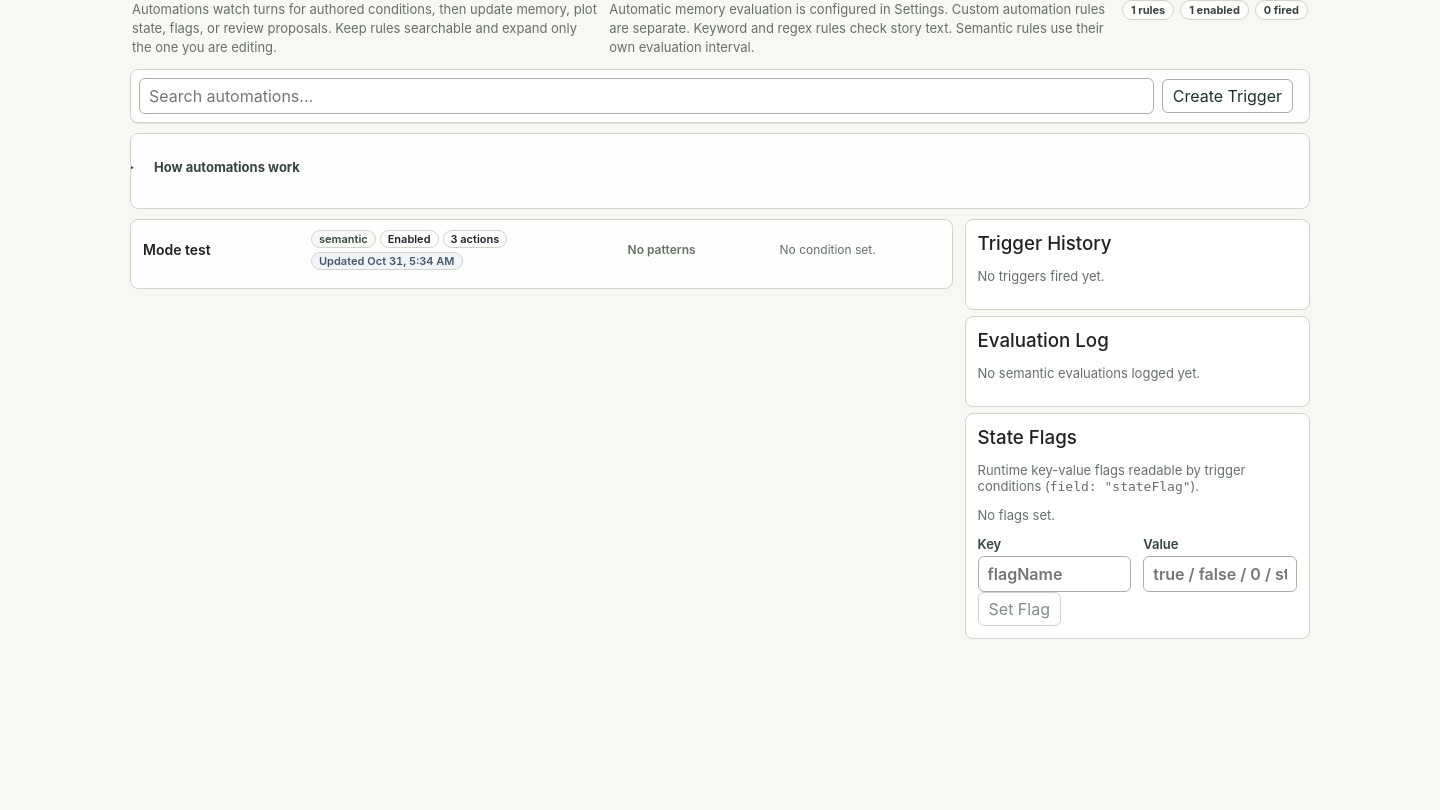
Scenario: uses the saved rule mode to show warnings: semantic
The image size is (1440, 810).
Step 1. Click the heading that starts with "Mode test" → [177, 250], box [131, 220, 952, 280]
(page scrolled)
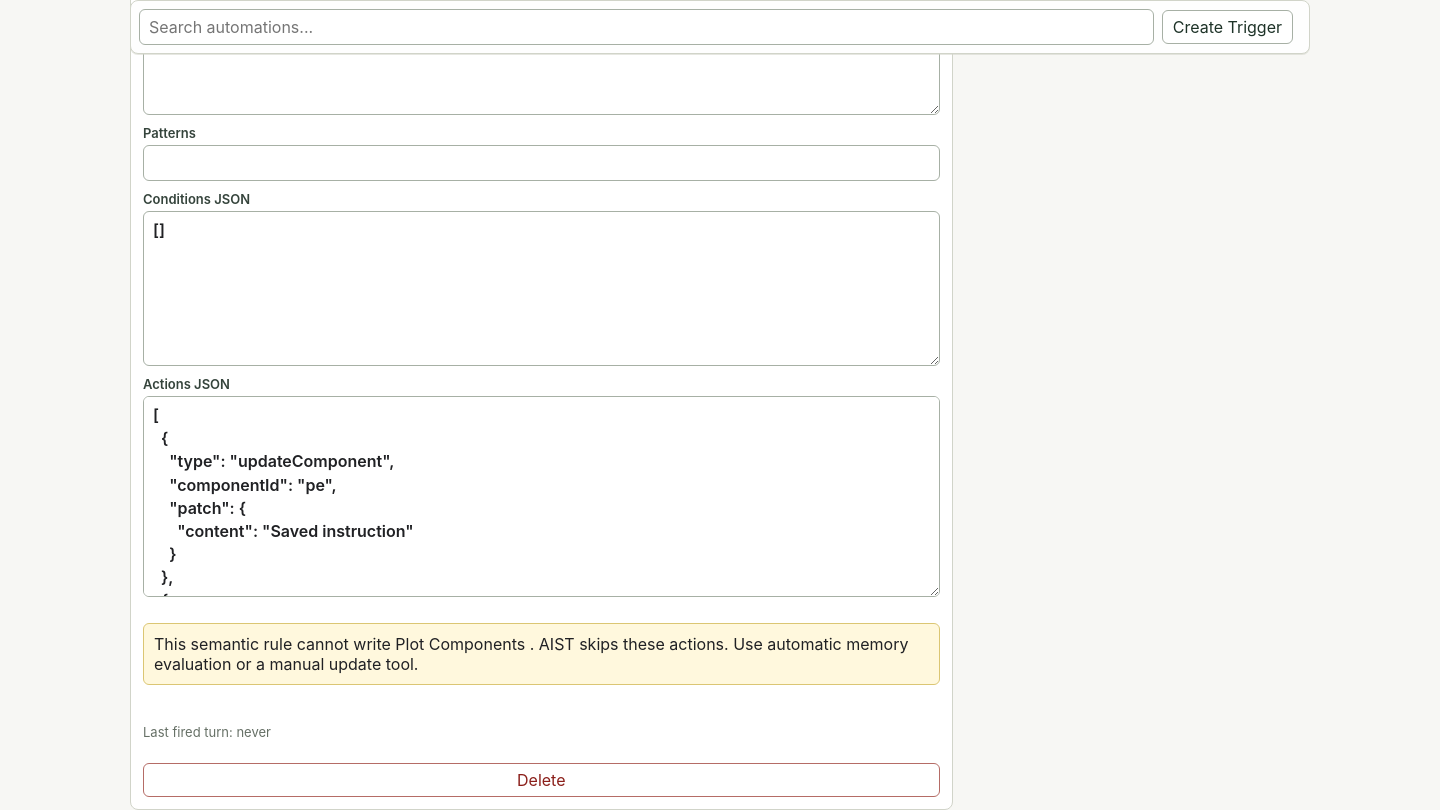
Result: the message shows "This semantic rule cannot write Plot Components . AIST skips these actions. Use automatic memory evaluation or a manual update tool." at [154, 634, 908, 674]
